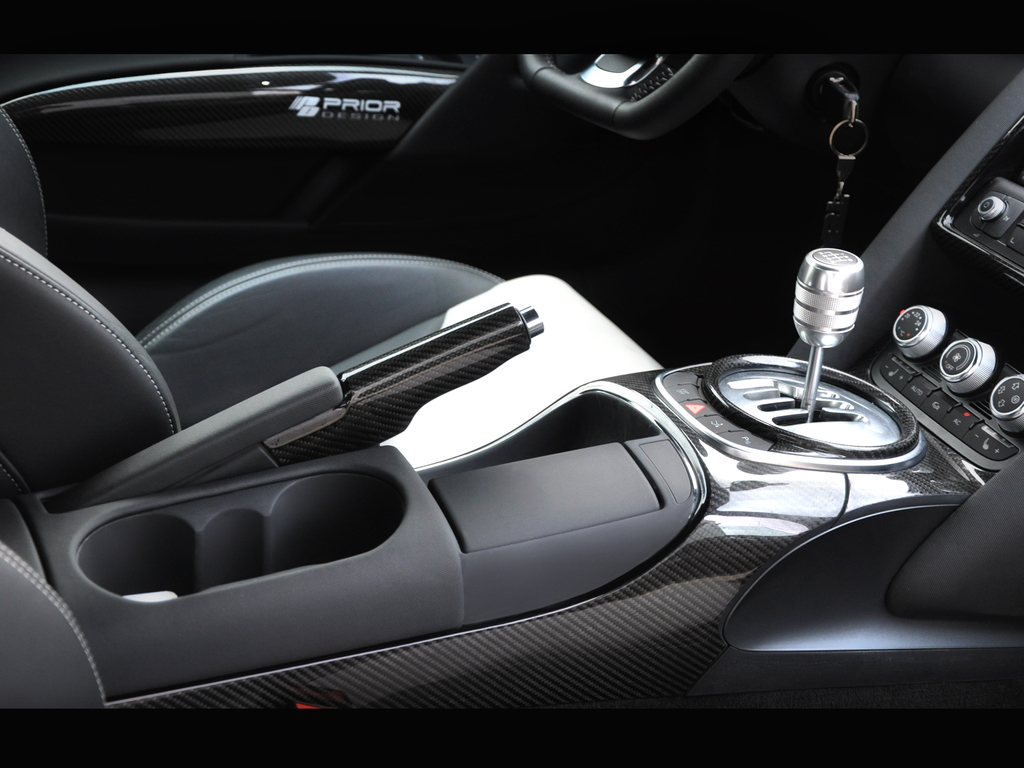Car: (0, 155, 977, 735)
